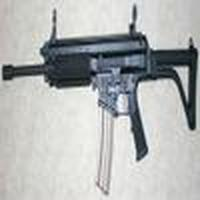gun: (1, 23, 200, 136)
